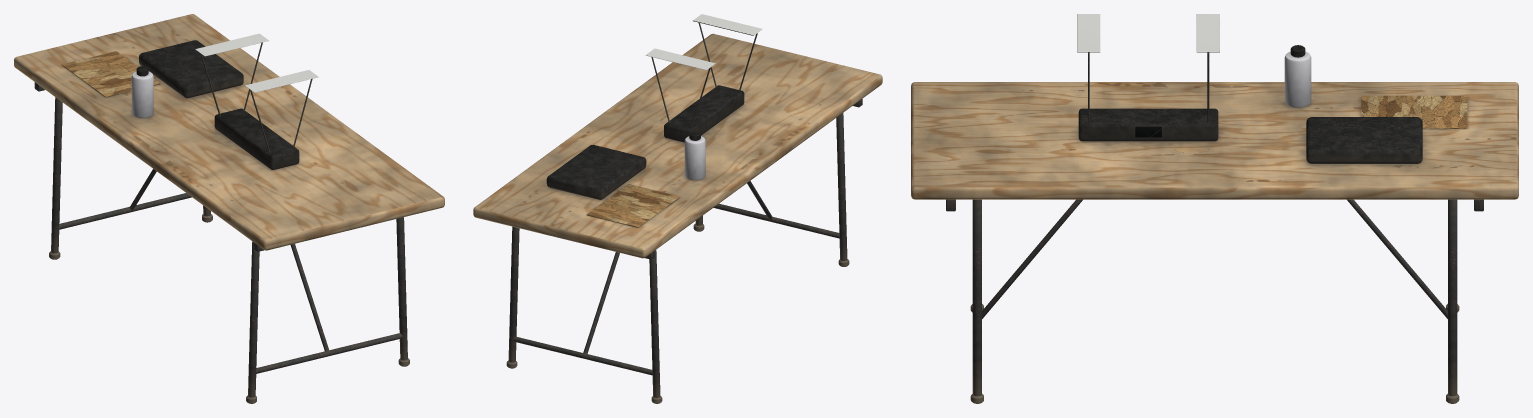
File: SM_ChronoTable_Body.fbx
3 renders of one model, left to right at view 1: azimuth 30°, elevation 25°; view 2: azimuth 150°, elevation 25°; view 3: azimuth 270°, elevation 25°, orthographic. The views are drawn at different scales.
Parts seen in each view (by area): view 1: ChronoTable_Body; view 2: ChronoTable_Body; view 3: ChronoTable_Body.
Part boxes in pixels (left/top/right/bottom): ChronoTable_Body: left=14, top=14, right=444, bottom=403; ChronoTable_Body: left=473, top=14, right=882, bottom=403; ChronoTable_Body: left=911, top=14, right=1518, bottom=403.
Size of the model in its own units: 1.83 by 0.76 by 1.08.
1 material, 1 textured.
